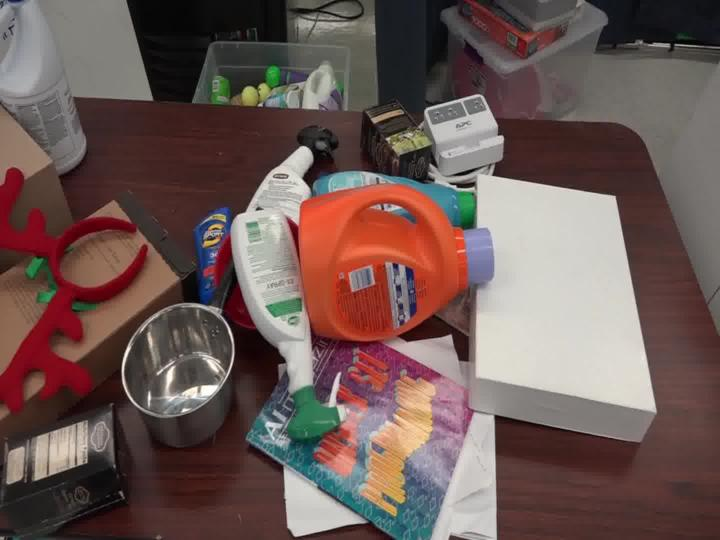tide: (273, 164, 498, 344)
